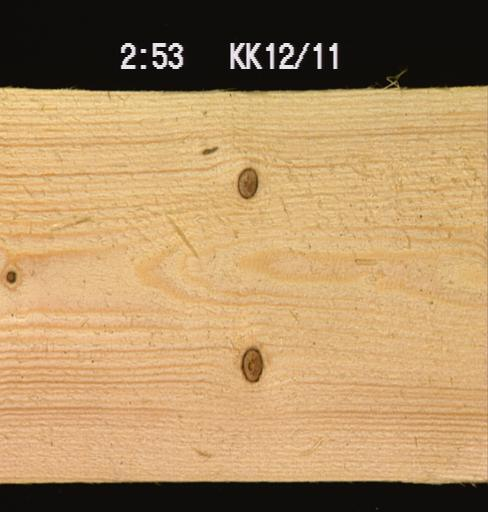dry_knot: (237, 344, 264, 382), (234, 164, 257, 200), (2, 261, 20, 291)
